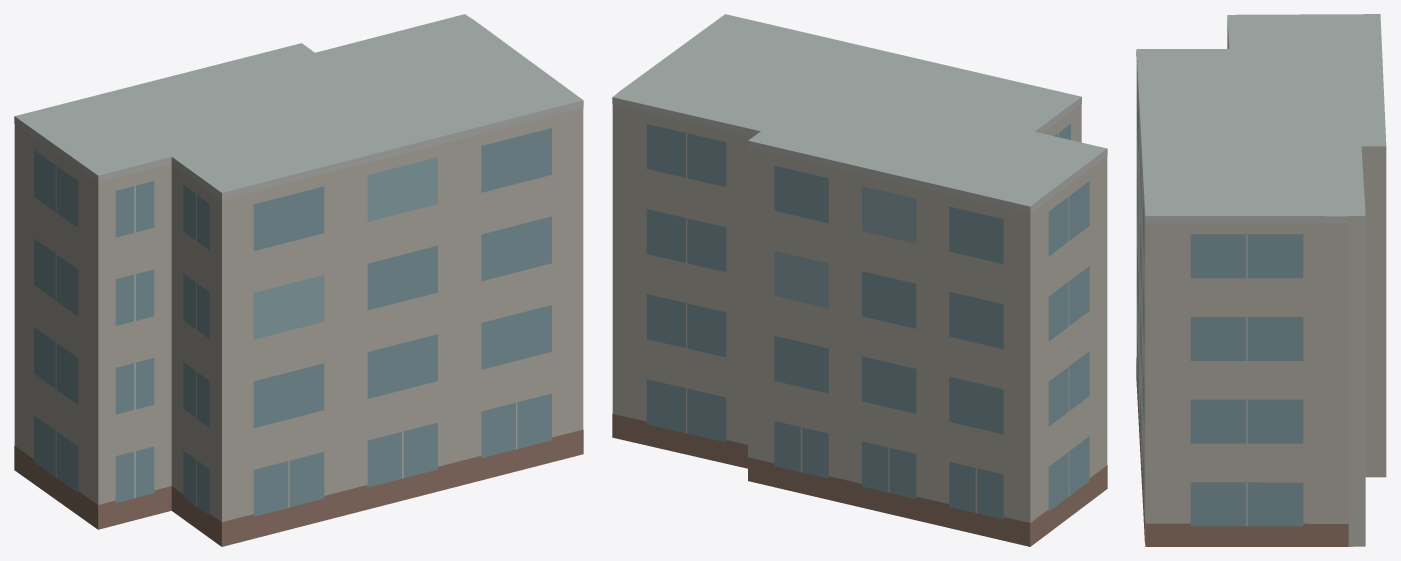
Rendered from survey-upis-32952479.glb.
3 renders of one model, left to right at view 1: azimuth 30°, elevation 25°; view 2: azimuth 150°, elevation 25°; view 3: azimuth 270°, elevation 25°, orthographic. The views are drawn at different scales.
Visible parts, largest first — view 1: survey-upis-32952479.tmp; view 2: survey-upis-32952479.tmp; view 3: survey-upis-32952479.tmp.
Boxes of the visible parts, <box> form: survey-upis-32952479.tmp: <box>14,14,583,546</box>; survey-upis-32952479.tmp: <box>612,14,1107,546</box>; survey-upis-32952479.tmp: <box>1136,14,1386,546</box>.
Bounding box in the file's own units: 15.34 × 11.7 × 8.02.
